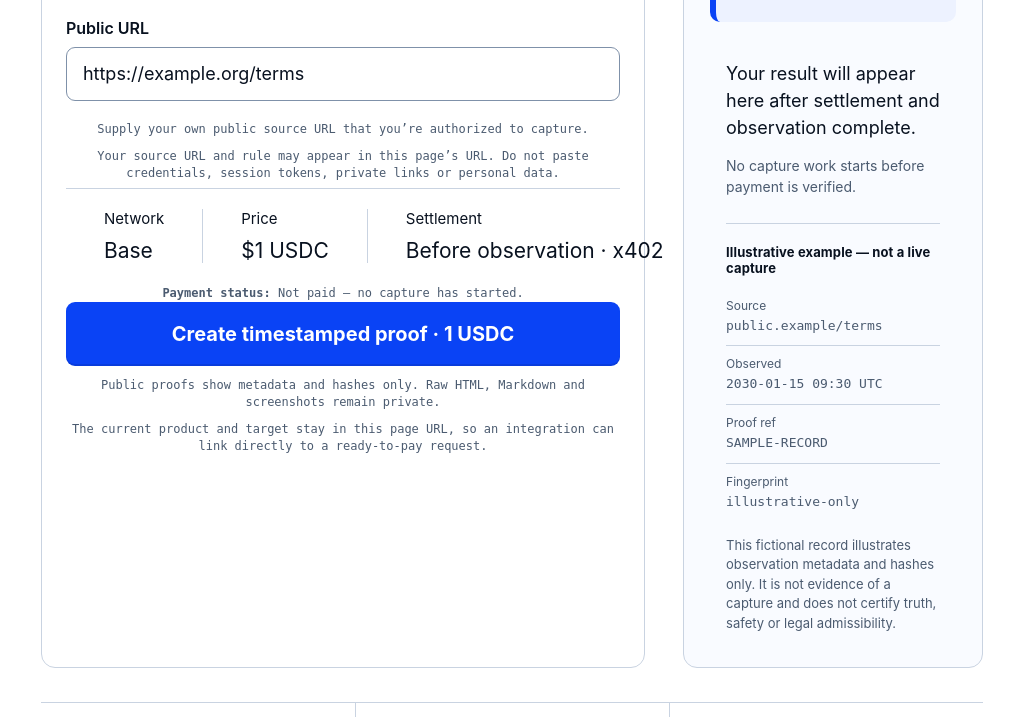
Test case: Base app incomplete paid requests › blocks a second tab via storage events and does not queue behind a held lock
(page scrolled)
What coordinates should you click on to do the following:
click the button "Create timestamped proof · 1 USDC"
I would click on:
 (343, 334)
Its box is x1=66 y1=302 x2=620 y2=366.
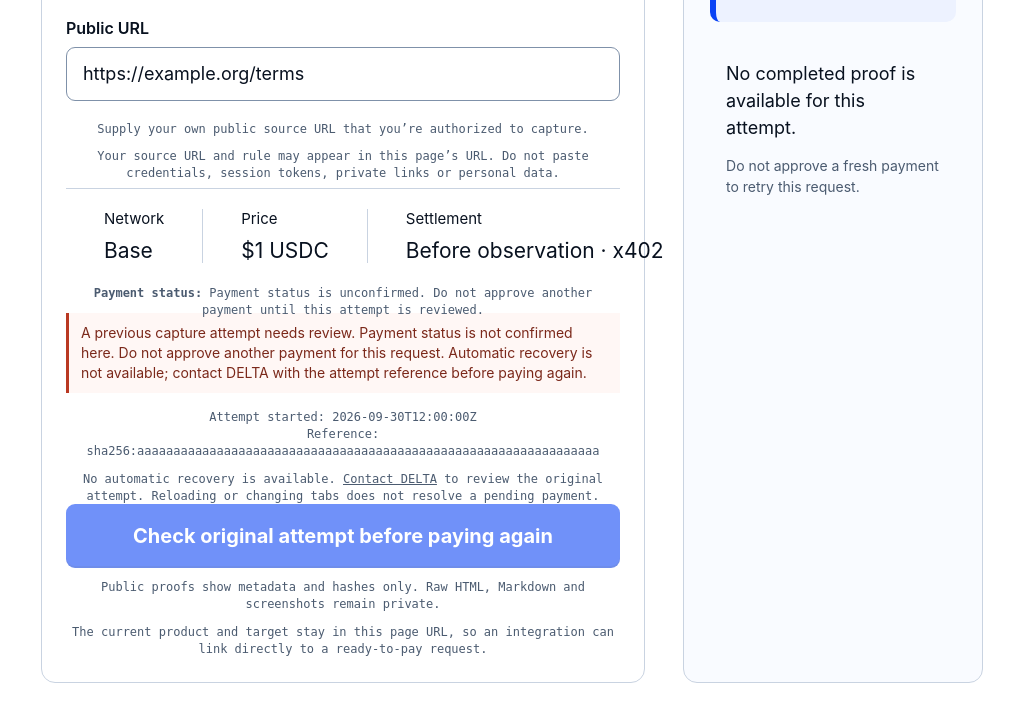
Expected: the element with class "result-status" no longer shows "READY"
Expected: the button "Check original attempt before paying again" is disabled, x1=66 y1=504 x2=620 y2=568
Expected: the text "previous capture attempt" is shown, x1=81 y1=324 x2=592 y2=381
